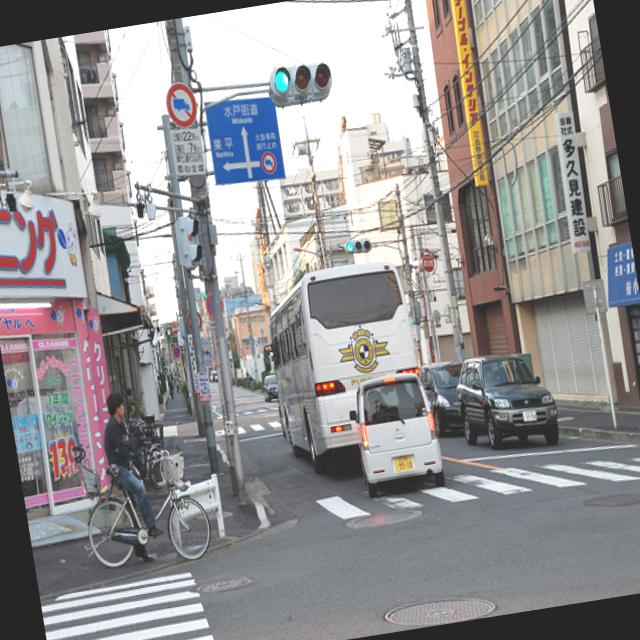Vehicle: (258, 257, 436, 481), (343, 369, 447, 502), (452, 342, 564, 453), (418, 358, 473, 438), (260, 374, 280, 403), (210, 371, 218, 384)
